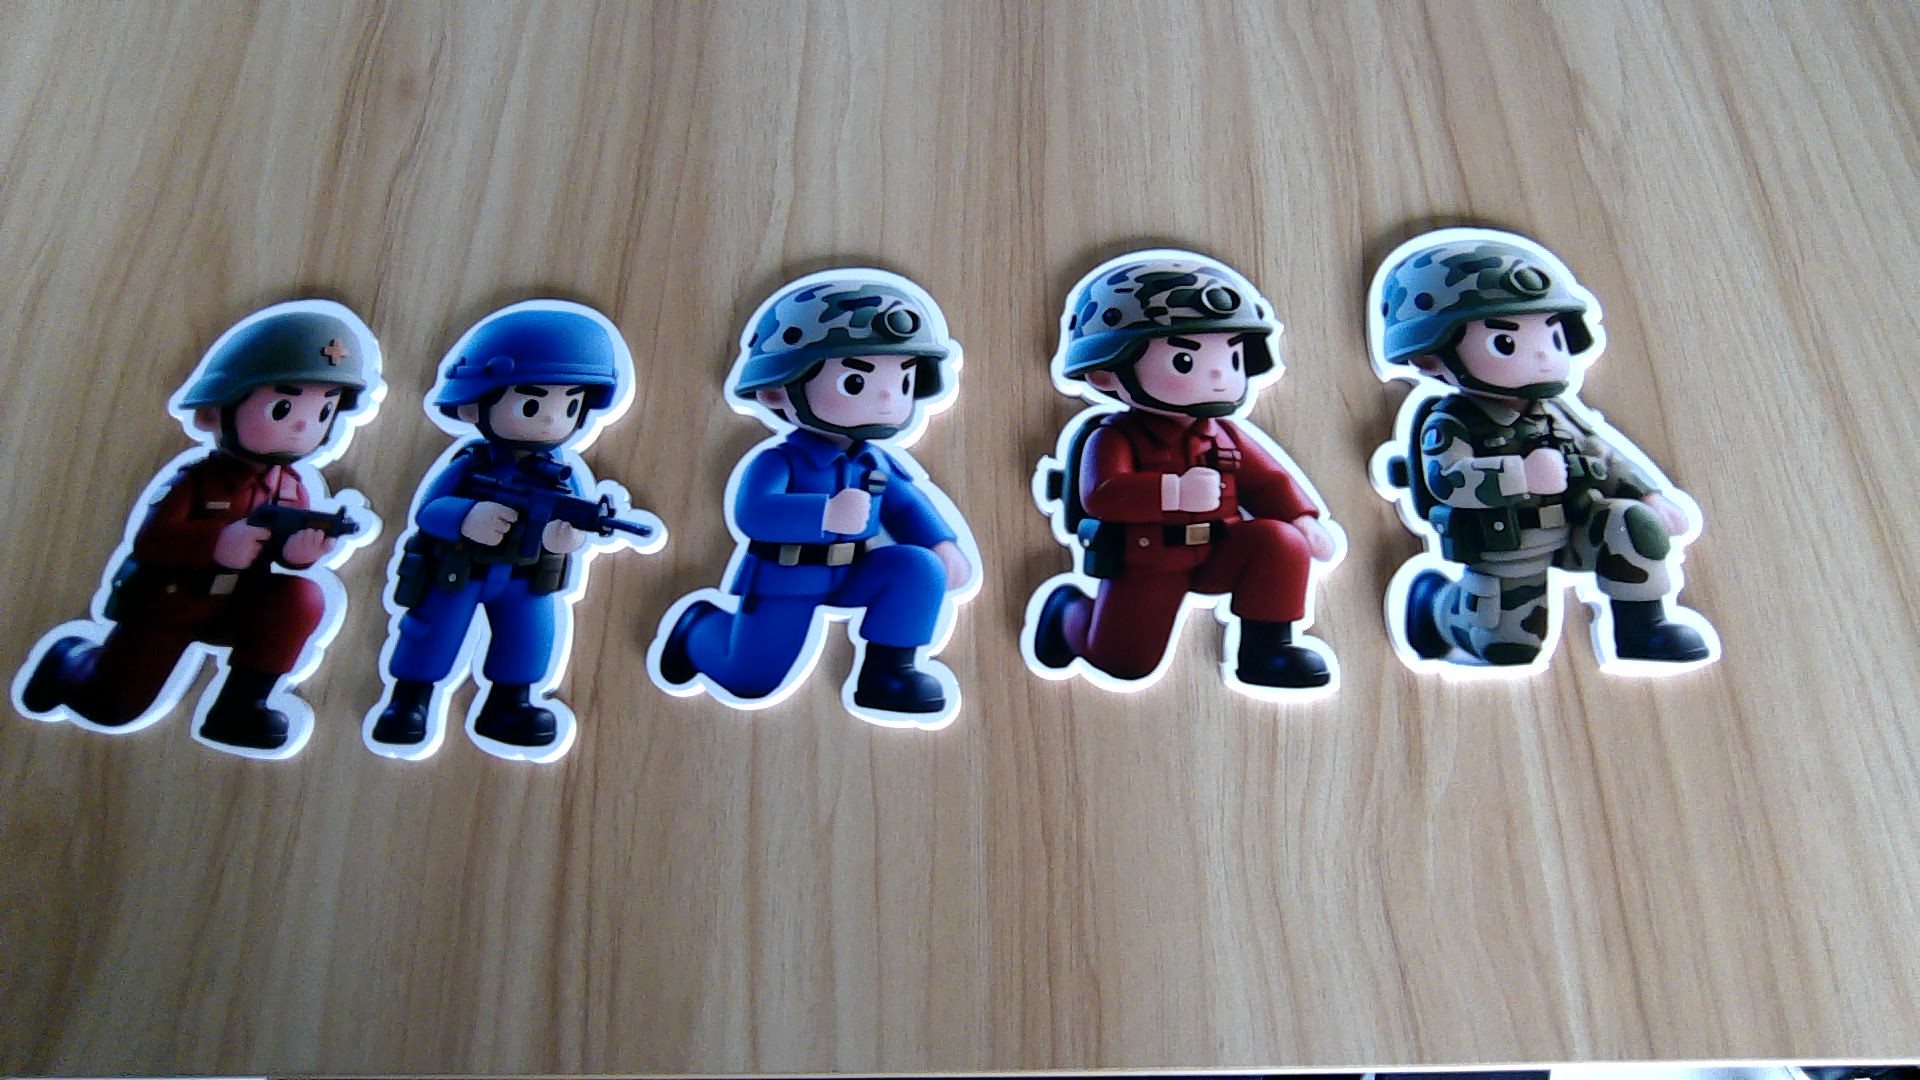友军: (1367, 384, 1724, 694)
敌人1: (11, 454, 359, 760), (1022, 405, 1346, 702)
敌人2: (647, 426, 982, 738), (365, 435, 650, 762)
